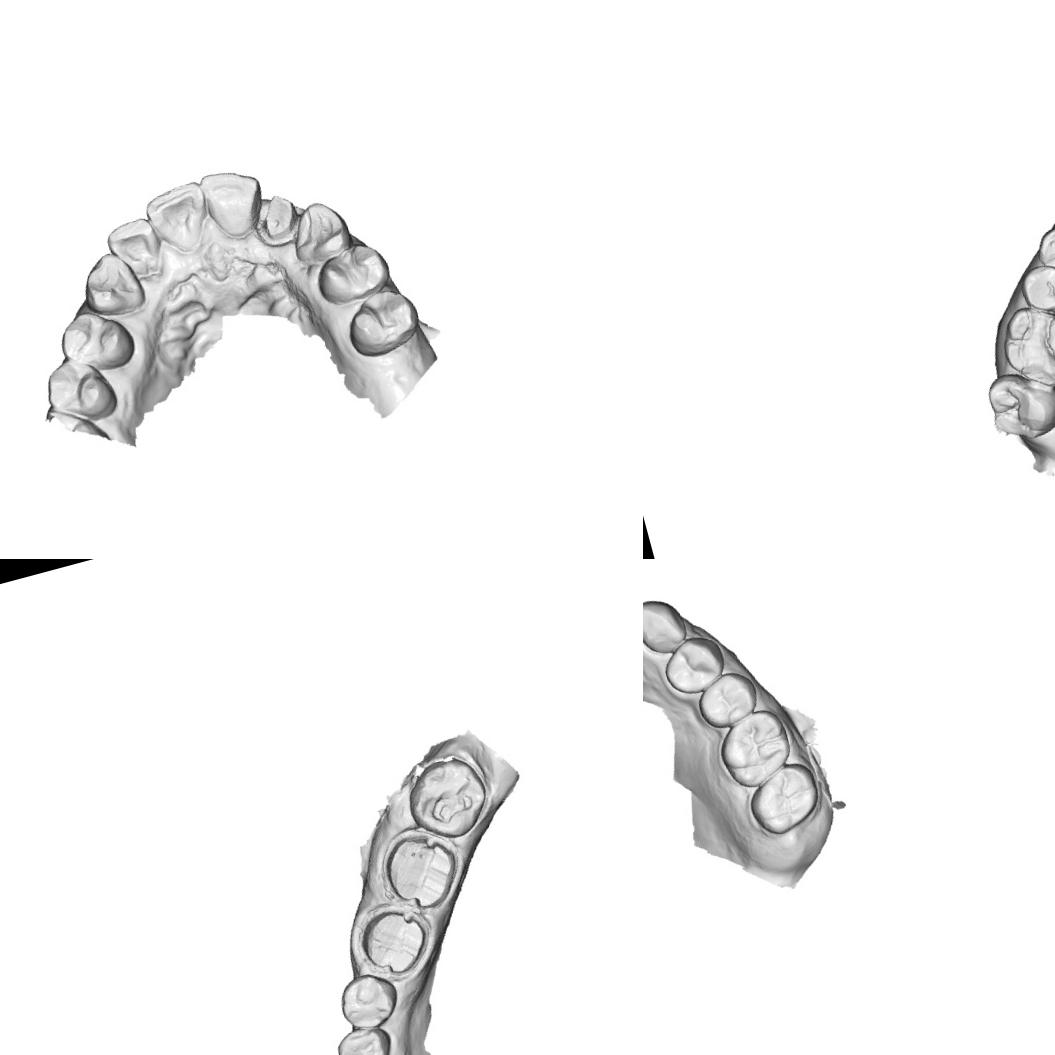canine: (72, 244, 149, 324), (282, 194, 356, 268), (643, 591, 693, 661)
crown: (374, 822, 468, 920), (350, 897, 436, 984), (247, 188, 306, 252)
incisor: (198, 160, 274, 246), (140, 178, 218, 260), (101, 211, 168, 289)
molar: (397, 748, 497, 848), (710, 703, 800, 794), (740, 756, 829, 840), (977, 357, 1055, 447), (992, 293, 1055, 397)
premolar: (338, 281, 428, 364), (52, 300, 140, 382), (39, 350, 122, 432), (308, 236, 396, 310), (656, 630, 731, 702), (332, 966, 405, 1037), (690, 665, 763, 732), (1010, 255, 1055, 322), (329, 1017, 399, 1055), (1029, 215, 1055, 284)
